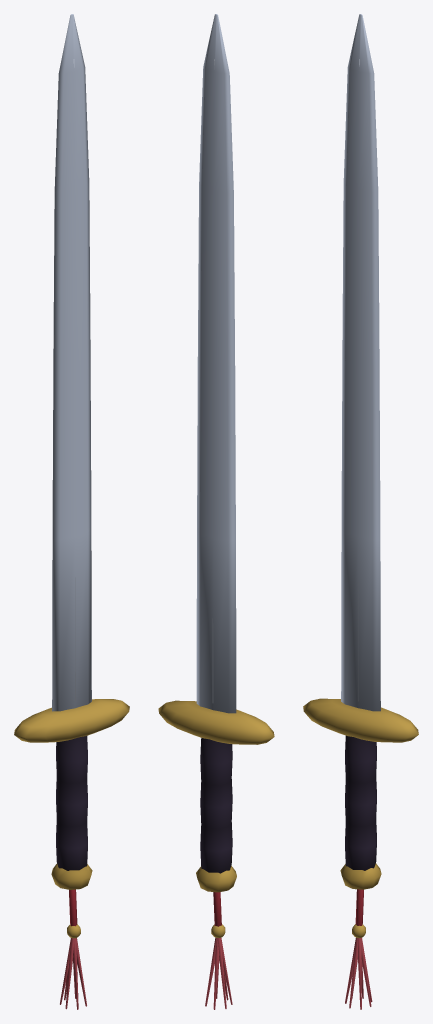
The model's file is jian.glb.
3 renders of one model, left to right at view 1: azimuth 30°, elevation 25°; view 2: azimuth 150°, elevation 25°; view 3: azimuth 330°, elevation 25°, orthographic.
Visible parts, largest first — view 1: jian; view 2: jian; view 3: jian.
Part boxes in pixels (x1,y1,x2,y2): jian: (14,14,129,1009); jian: (158,14,274,1009); jian: (303,14,418,1009).
Bounding box in the file's own units: 0.14 × 1.14 × 0.0468.
